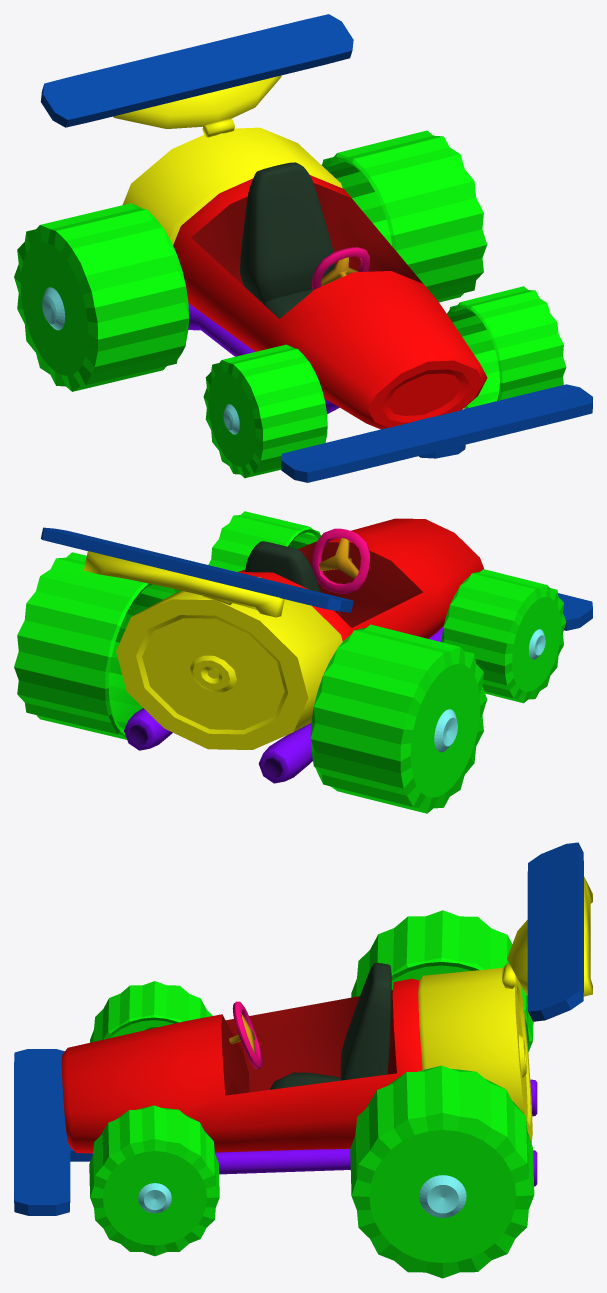
File: Soapkart.fbx
3 renders of one model, top to bottom at view 1: azimuth 30°, elevation 25°; view 2: azimuth 150°, elevation 25°; view 3: azimuth 270°, elevation 25°, orthographic. The views are drawn at different scales.
Visible parts, largest first — view 1: body, Ban depan.001, Ban depan, Cube.002, Cube, Kursi, Cylinder, setir; view 2: Ban depan.001, body, Ban depan, Cube.002, Cylinder, setir, Kursi, Cube; view 3: body, Ban depan.001, Ban depan, Cube.002, Cube, Kursi, Cylinder, setir.
Boxes of the visible parts, bbox=[...] form: body: bbox=[113, 75, 487, 429]; Ban depan.001: bbox=[14, 130, 487, 391]; Ban depan: bbox=[203, 286, 566, 478]; Cube.002: bbox=[40, 14, 353, 127]; Cube: bbox=[281, 384, 592, 482]; Kursi: bbox=[240, 162, 334, 318]; Cylinder: bbox=[188, 303, 339, 414]; setir: bbox=[312, 247, 370, 290]; Ban depan.001: bbox=[14, 552, 487, 813]; body: bbox=[83, 518, 483, 749]; Ban depan: bbox=[208, 511, 566, 703]; Cube.002: bbox=[41, 527, 353, 612]; Cylinder: bbox=[124, 626, 443, 783]; setir: bbox=[312, 528, 370, 593]; Kursi: bbox=[245, 541, 320, 592]; Cube: bbox=[321, 535, 592, 630]; body: bbox=[61, 876, 592, 1153]; Ban depan.001: bbox=[350, 910, 534, 1278]; Ban depan: bbox=[89, 981, 219, 1256]; Cube.002: bbox=[527, 842, 583, 1021]; Cube: bbox=[14, 1049, 70, 1215]; Kursi: bbox=[269, 963, 391, 1089]; Cylinder: bbox=[215, 1079, 537, 1186]; setir: bbox=[229, 1001, 262, 1068].
Bounding box in the file's own units: 342 × 198 × 399.
1 material, 1 textured.
